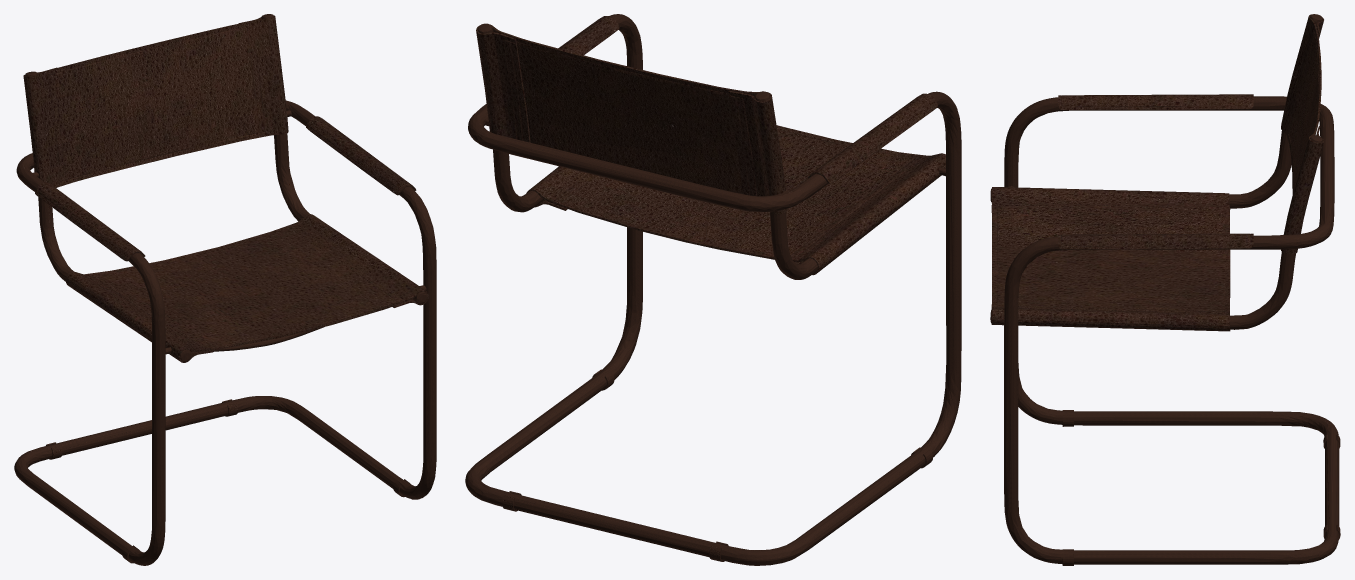
Rendered from meccanica-chair.glb.
3 renders of one model, left to right at view 1: azimuth 30°, elevation 25°; view 2: azimuth 150°, elevation 25°; view 3: azimuth 270°, elevation 25°, orthographic. The views are drawn at different scales.
Parts seen in each view (by area): view 1: product; view 2: product; view 3: product.
Boxes of the visible parts, bbox=[...] form: product: bbox=[14, 14, 436, 565]; product: bbox=[465, 14, 961, 565]; product: bbox=[990, 14, 1340, 565].
Size of the model in its own units: 0.7644 by 1 by 0.7557.
Materials: 1 (1 with a texture image).
